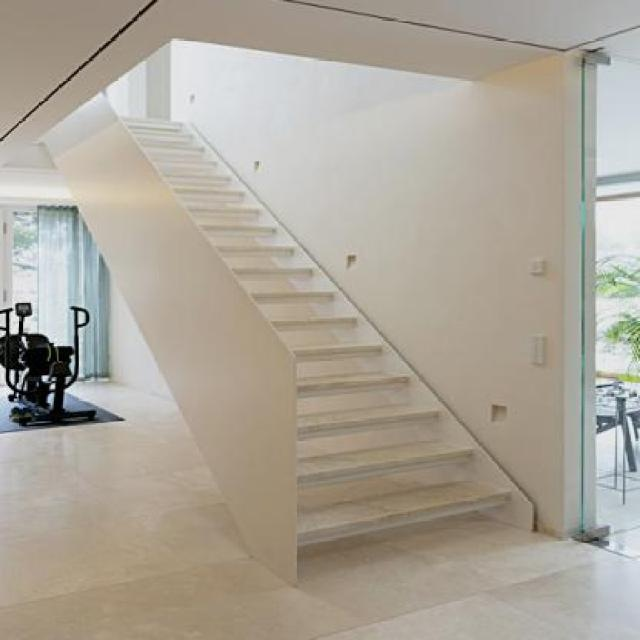stair: (57, 103, 554, 568)
